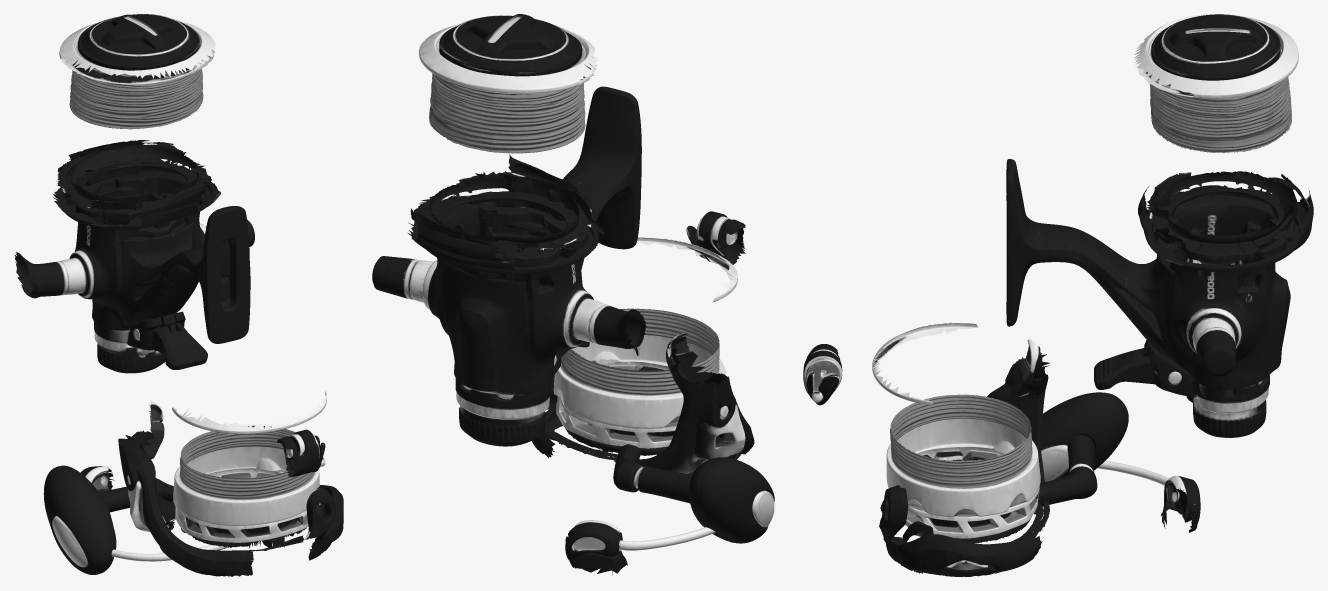
The model's file is baitrunner_kaminari.glb.
3 views of the same model, side by side, from view 1: azimuth 30°, elevation 25°; view 2: azimuth 150°, elevation 25°; view 3: azimuth 270°, elevation 25° (orthographic). The views are drawn at different scales.
Visible parts, largest first — view 1: Body, Rotor, Crank, Bail; view 2: Body, Rotor, Crank, Bail; view 3: Body, Rotor, Crank, Bail.
Part boxes in pixels (left/top/right/bottom): Body: left=14, top=14, right=254, bottom=373; Rotor: left=118, top=391, right=343, bottom=576; Crank: left=43, top=465, right=173, bottom=574; Bail: left=80, top=466, right=229, bottom=561; Body: left=372, top=14, right=646, bottom=446; Rotor: left=532, top=211, right=754, bottom=474; Crank: left=613, top=444, right=774, bottom=543; Bail: left=565, top=520, right=715, bottom=574; Body: left=1006, top=14, right=1313, bottom=437; Rotor: left=803, top=322, right=1049, bottom=576; Crank: left=1038, top=392, right=1128, bottom=506; Bail: left=1097, top=460, right=1200, bottom=532.
Size of the model in its own units: 0.1177 by 0.1991 by 0.1722.
Materials: 1 (1 with a texture image).
